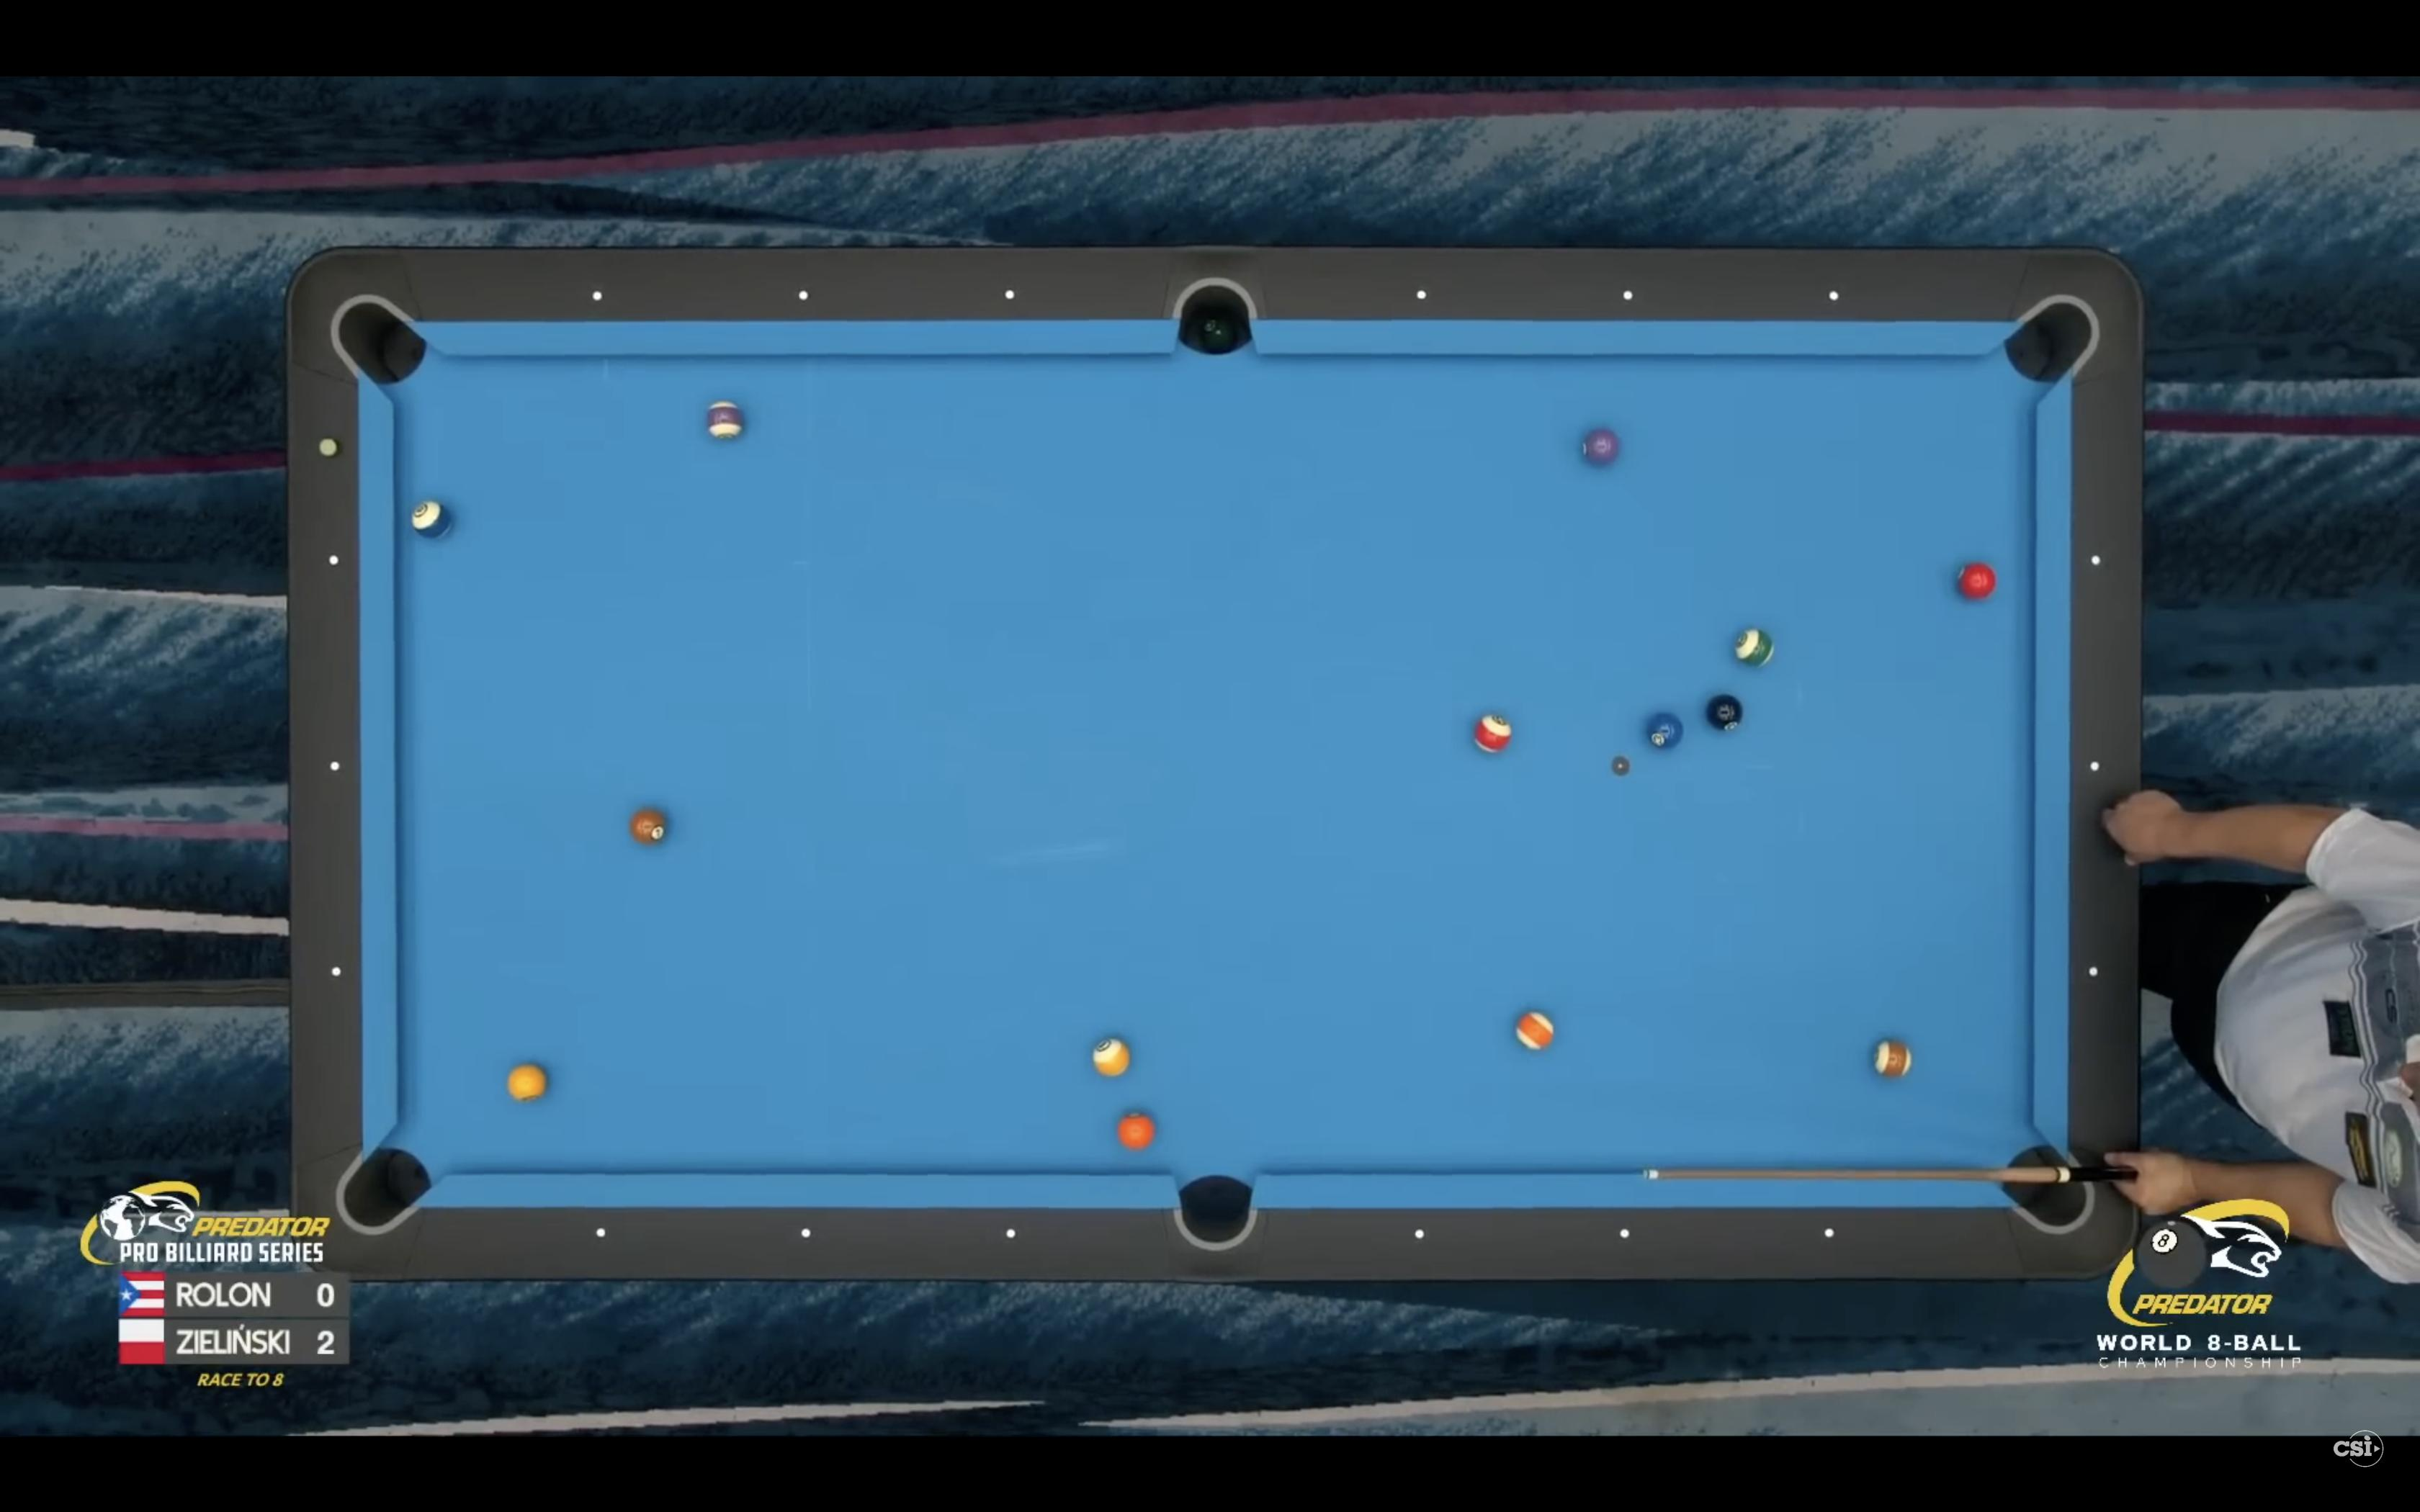Black: (1706, 693, 1746, 733)
Dot: (2087, 965, 2099, 977), (1828, 289, 1840, 301), (596, 1226, 606, 1239), (1005, 1228, 1017, 1239), (1620, 1226, 1631, 1239), (1824, 1228, 1836, 1239), (2089, 761, 2101, 772), (2091, 554, 2101, 566), (1622, 291, 1634, 301), (1004, 289, 1016, 300), (798, 291, 810, 301), (328, 554, 340, 564), (801, 1228, 812, 1239), (1415, 1228, 1425, 1239), (1416, 289, 1427, 300), (329, 761, 340, 772), (592, 291, 603, 300)
Solid: (505, 1061, 547, 1103), (1645, 709, 1687, 751), (629, 807, 669, 848), (1957, 561, 1998, 601), (1580, 425, 1619, 469), (1117, 1111, 1153, 1148)
Striped: (1091, 1036, 1132, 1078), (1873, 1036, 1913, 1080), (1734, 627, 1774, 671), (411, 502, 453, 542), (1514, 1009, 1554, 1050), (1472, 712, 1512, 754), (706, 397, 742, 439)
